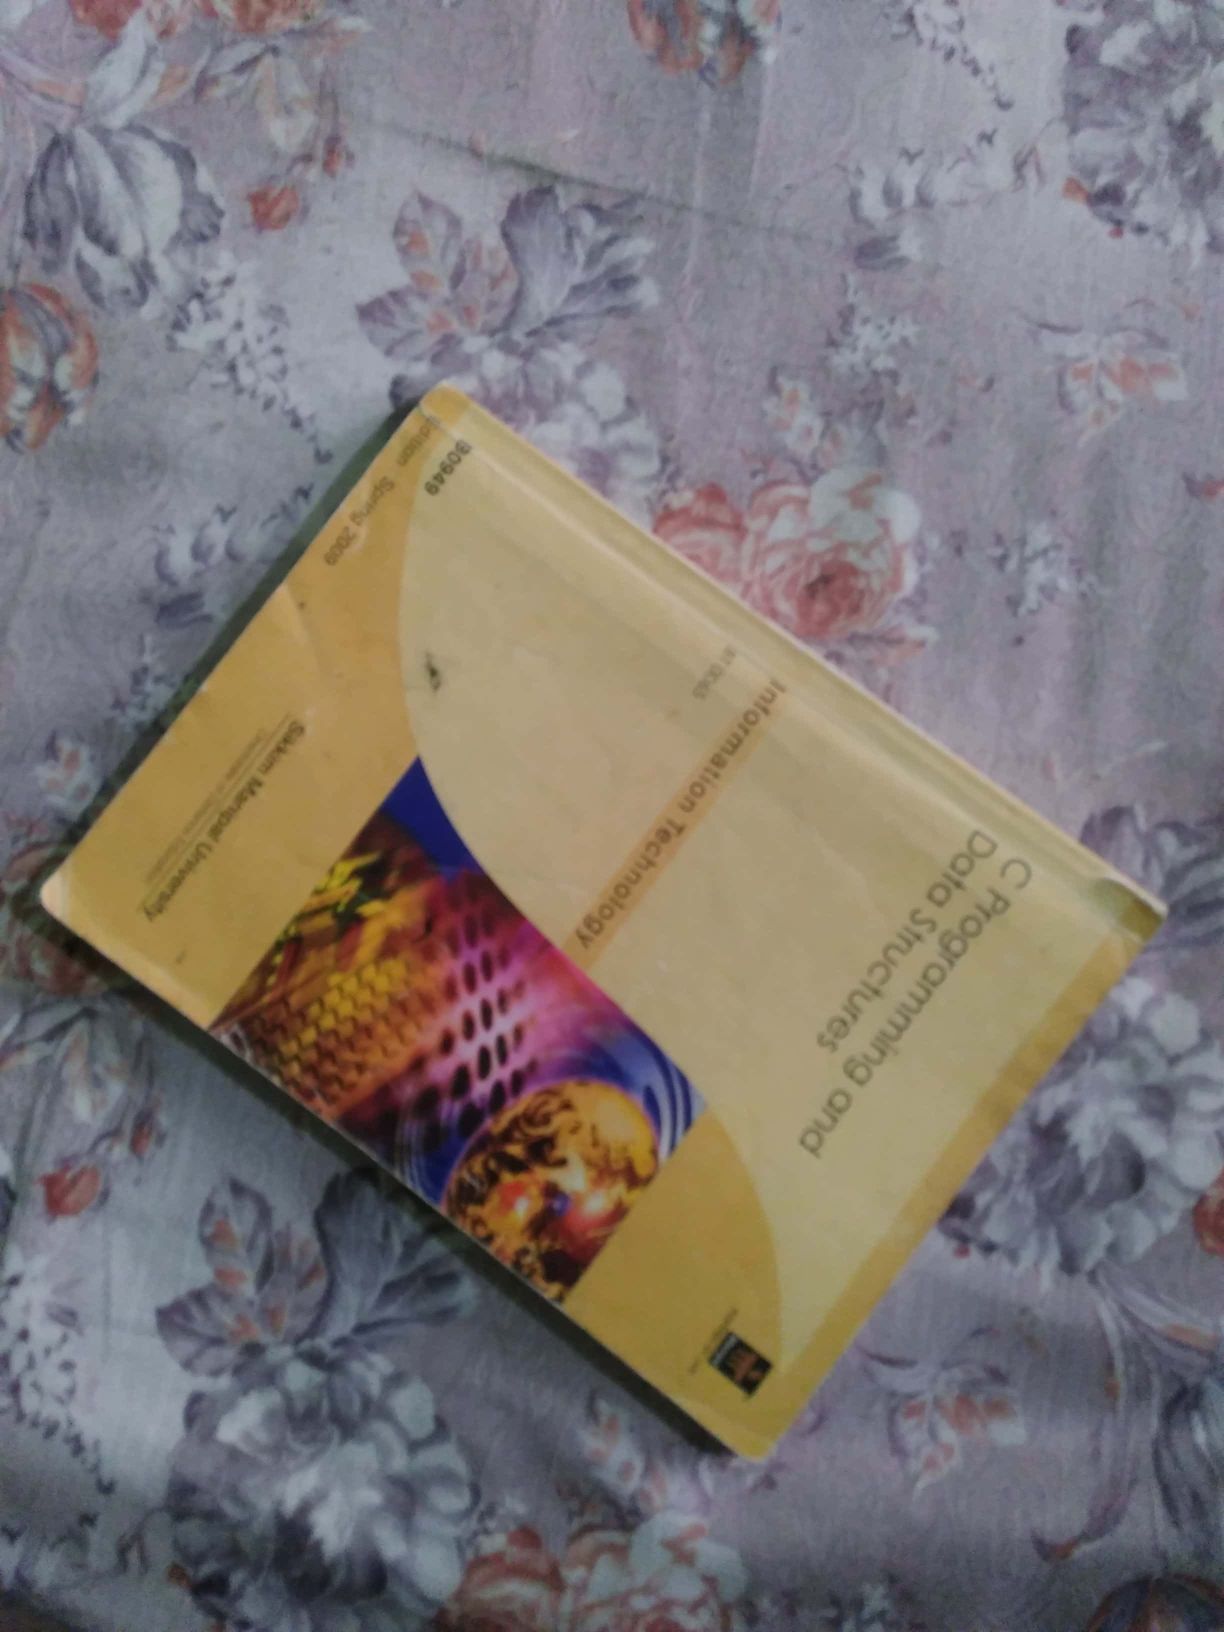clang: (27, 371, 1131, 1410)
